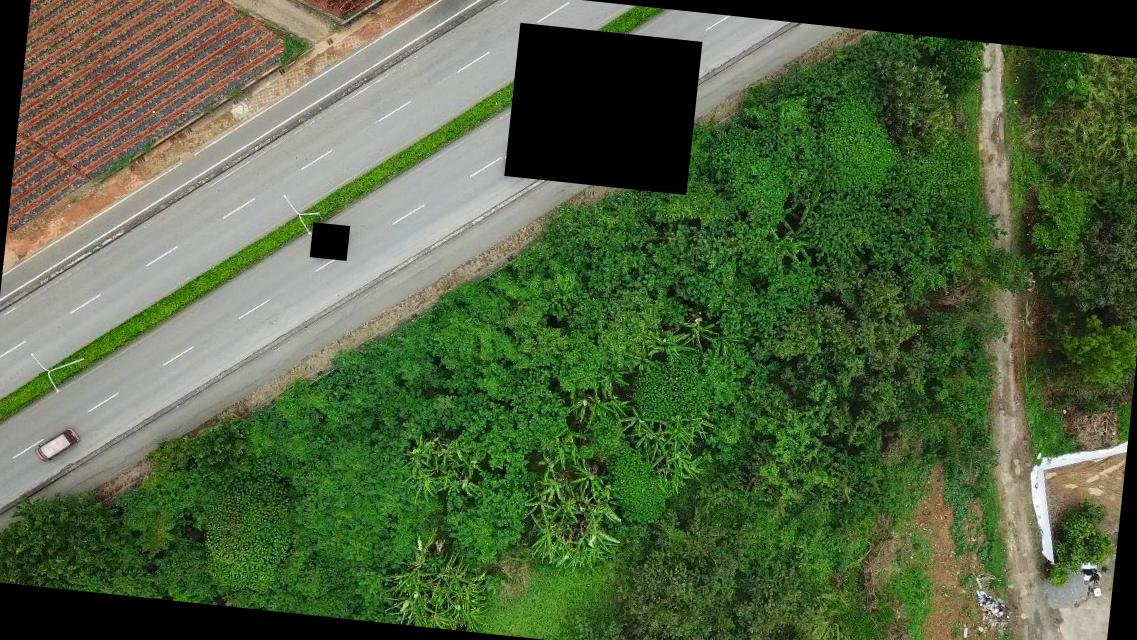vehicle: (32, 426, 79, 466)
